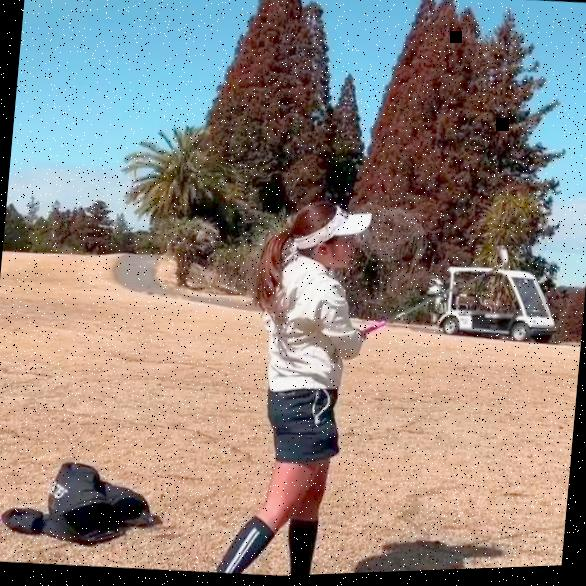ClubHead: (498, 252, 510, 274)
